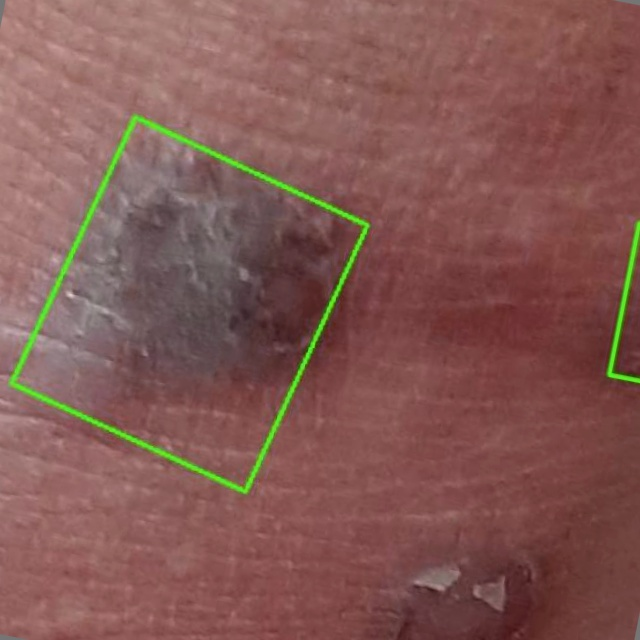Contact Dermatitis: (12, 117, 368, 492)
